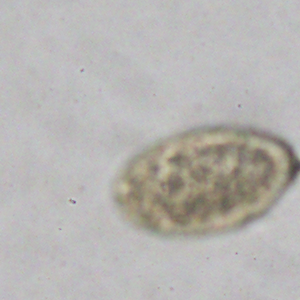Fasciola_hepatica_egg: (111, 121, 296, 237)
